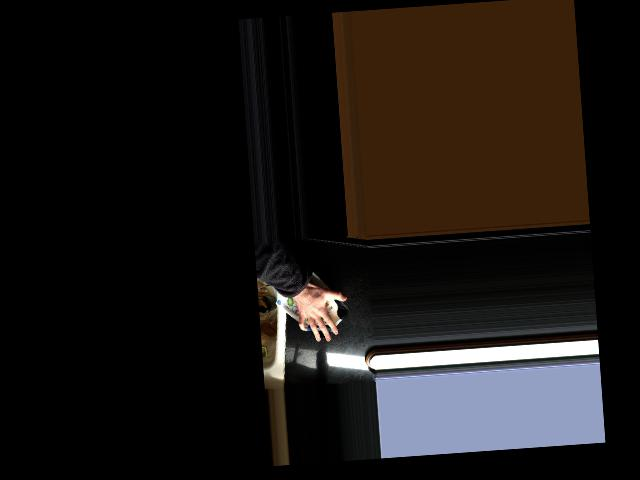cheese: (270, 264, 351, 344)
